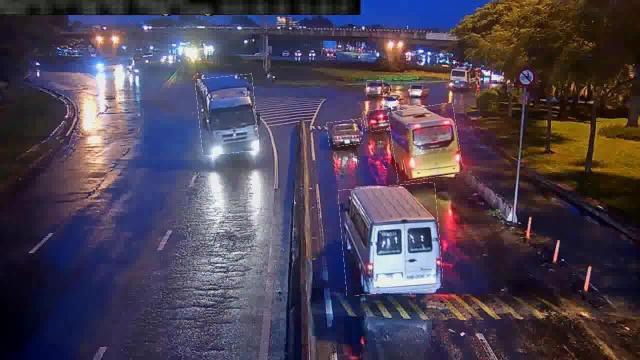Bus: (341, 184, 442, 294), (390, 104, 460, 180)
Car: (328, 120, 362, 146), (363, 109, 393, 131), (367, 80, 387, 96), (410, 86, 430, 98)
Truck: (198, 75, 258, 154)
